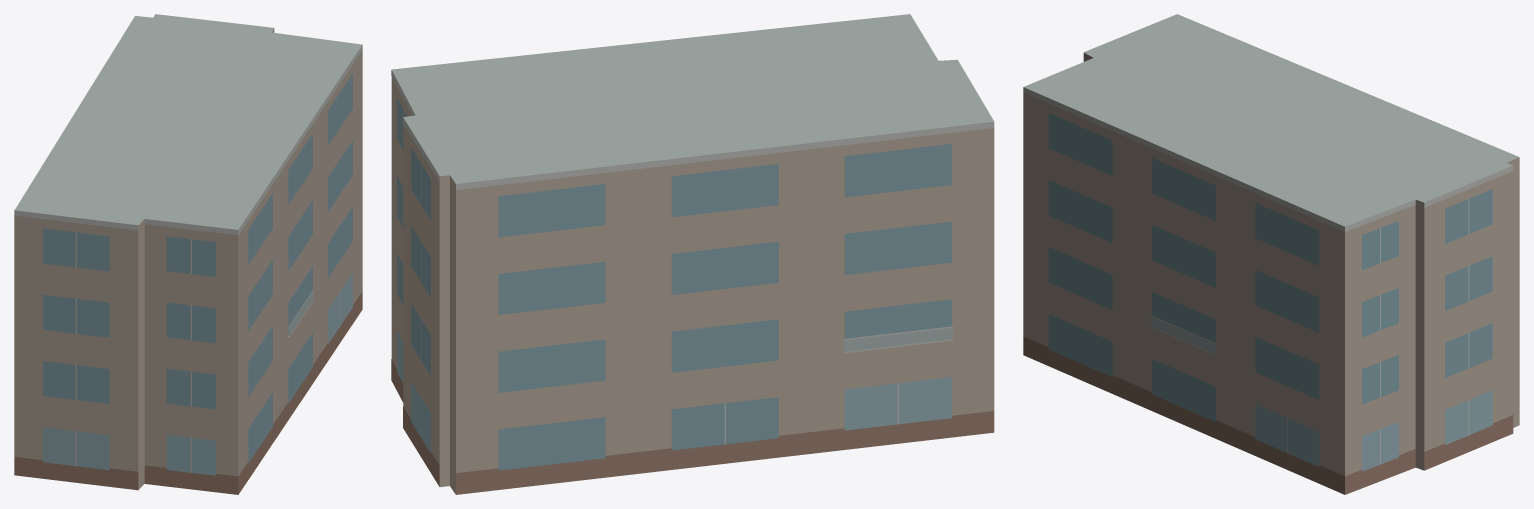
The model's file is survey-upis-32889914.glb.
3 renders of one model, left to right at view 1: azimuth 30°, elevation 25°; view 2: azimuth 150°, elevation 25°; view 3: azimuth 270°, elevation 25°, orthographic. The views are drawn at different scales.
Visible parts, largest first — view 1: survey-upis-32889914.tmp; view 2: survey-upis-32889914.tmp; view 3: survey-upis-32889914.tmp.
Part boxes in pixels (x1,y1,x2,y2): survey-upis-32889914.tmp: (14,14,362,494); survey-upis-32889914.tmp: (391,14,994,494); survey-upis-32889914.tmp: (1023,14,1519,494).
Bounding box in the file's own units: 20.77 × 12.2 × 20.48.
